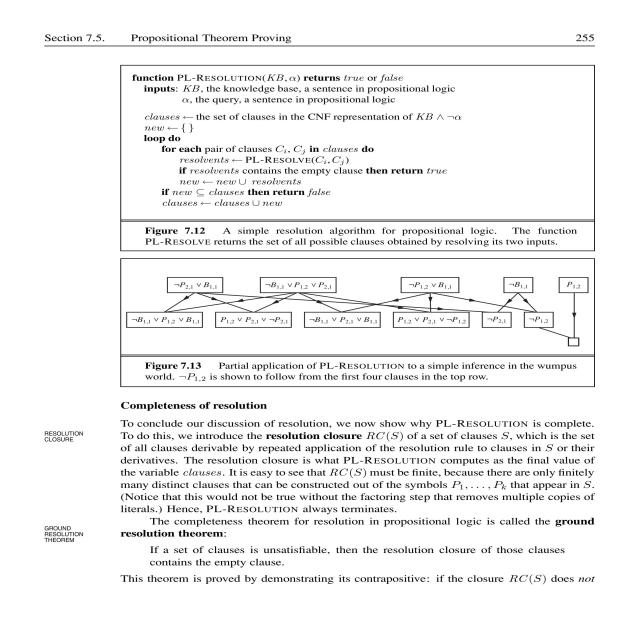diagram: (120, 252, 593, 386)
